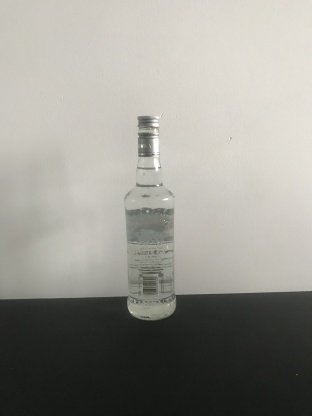nakretka: (135, 114, 161, 157)
